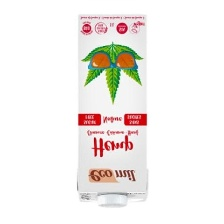carton: (72, 8, 150, 212)
